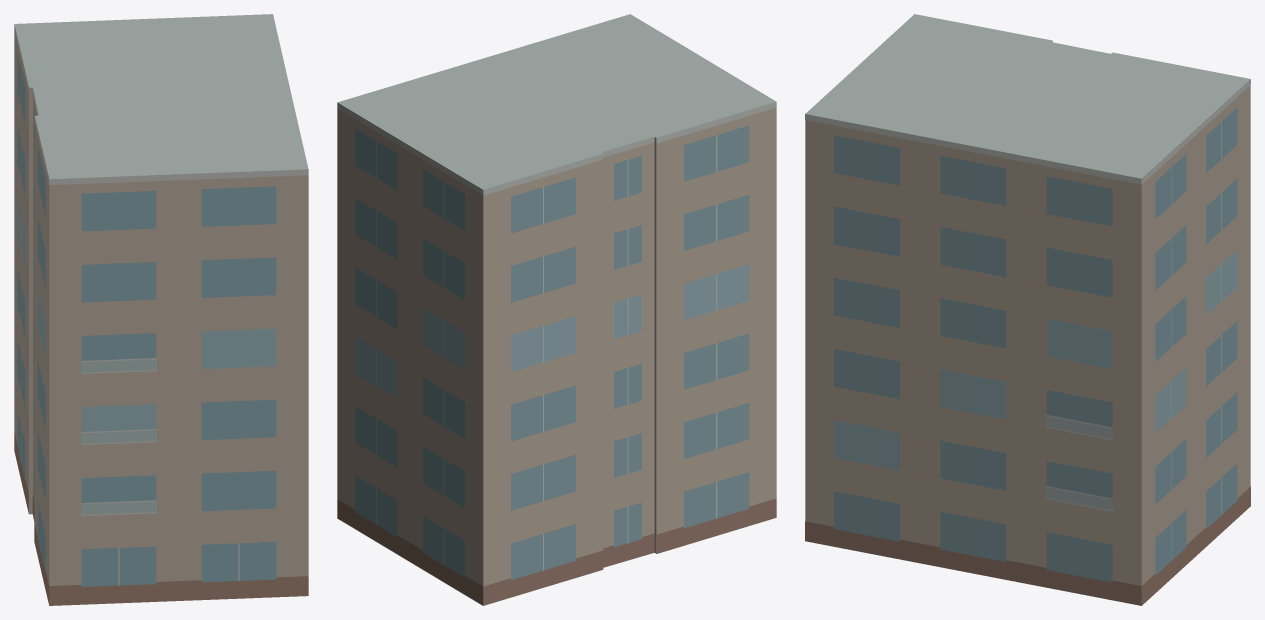
The model's file is survey-upis-32659159.glb.
3 views of the same model, side by side, from view 1: azimuth 30°, elevation 25°; view 2: azimuth 150°, elevation 25°; view 3: azimuth 270°, elevation 25° (orthographic). The views are drawn at different scales.
Visible parts, largest first — view 1: survey-upis-32659159.tmp; view 2: survey-upis-32659159.tmp; view 3: survey-upis-32659159.tmp.
Part boxes in pixels (x1,y1,x2,y2): survey-upis-32659159.tmp: (14,14,308,605); survey-upis-32659159.tmp: (337,14,776,605); survey-upis-32659159.tmp: (805,14,1250,605).
Size of the model in its own units: 14.37 by 17.37 by 16.43.
